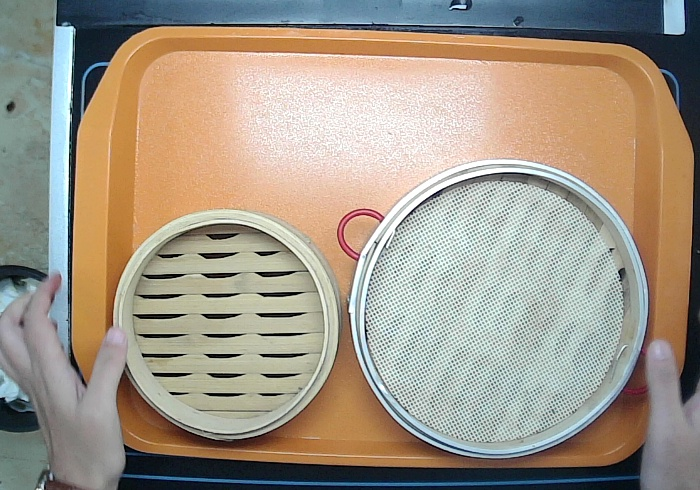ZNLD-Da_Zheng_Long: (336, 156, 667, 457)
ZNLD-Xiao_Zheng_Long: (109, 204, 340, 444)
